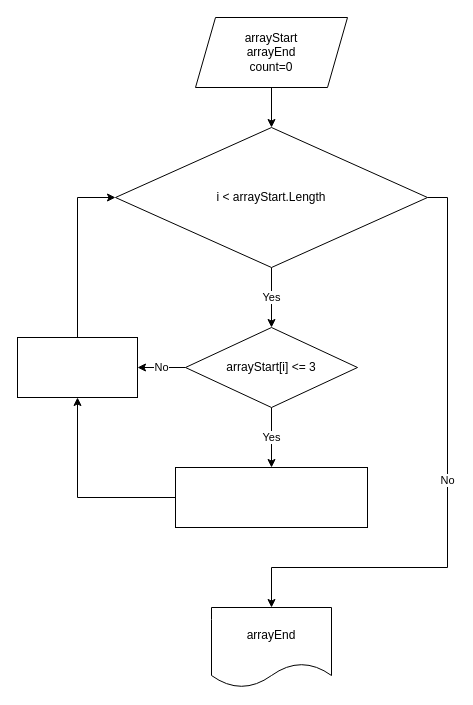
Image size: 473x705. Some labels were removed from this diagram. The box of each missing label's shape, as (x1, y1, x2, y2) in pixels:
arrayEnd[count]=arrayStart[i]: (174, 466, 368, 528)
count++: (16, 336, 138, 398)
